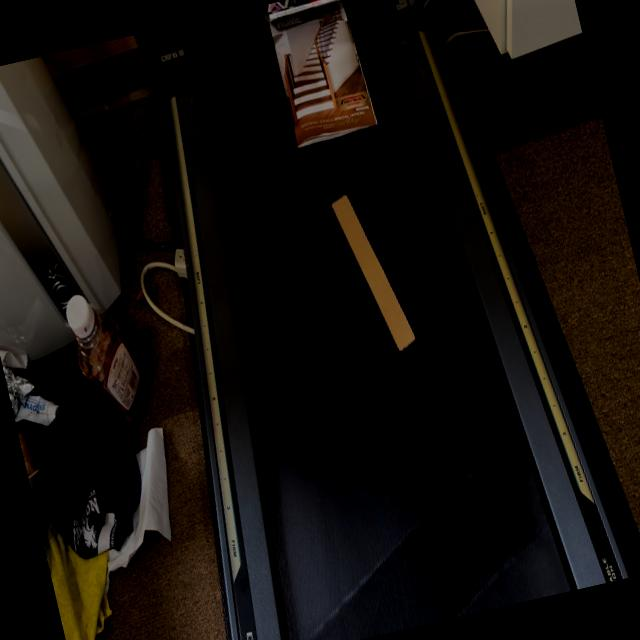Recycle: (267, 0, 380, 148), (328, 182, 420, 362), (263, 0, 372, 18)
